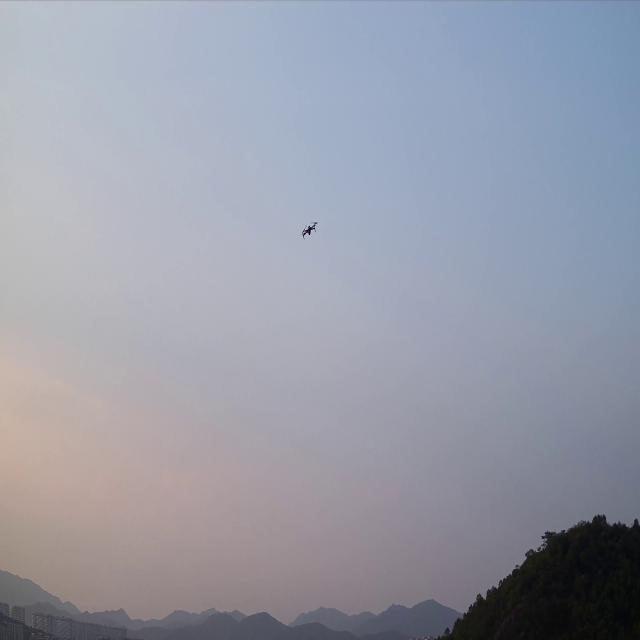UAV: (300, 220, 318, 240)
